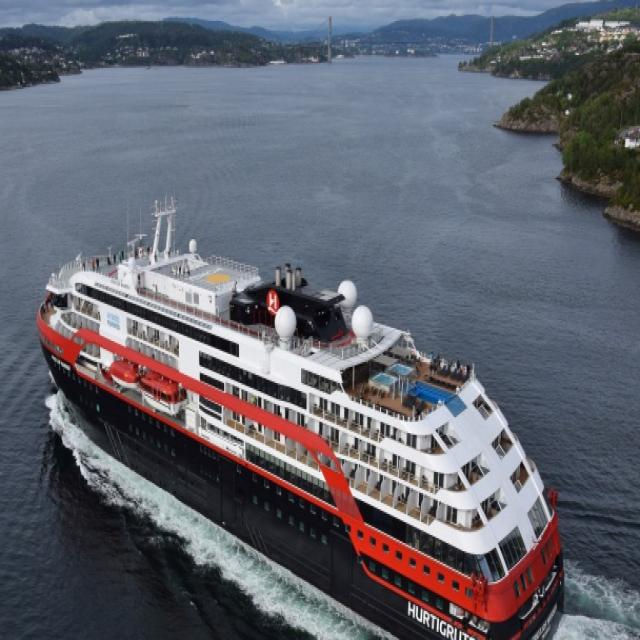cruises: (28, 188, 574, 640)
